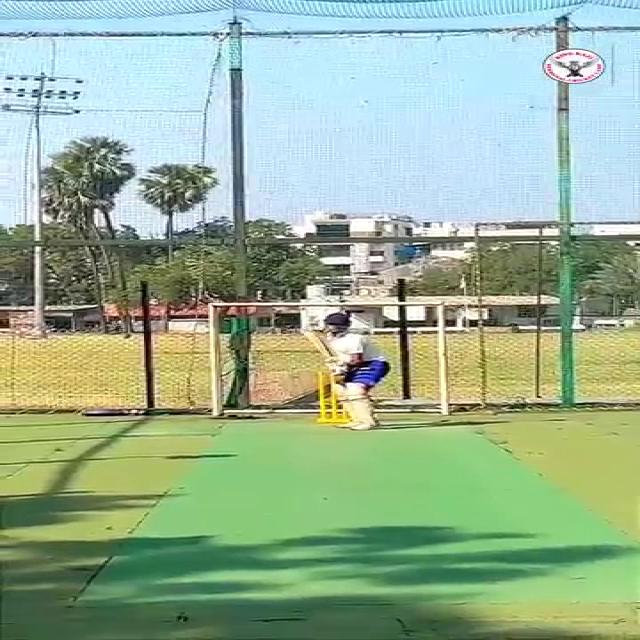batsman: (294, 311, 396, 434)
